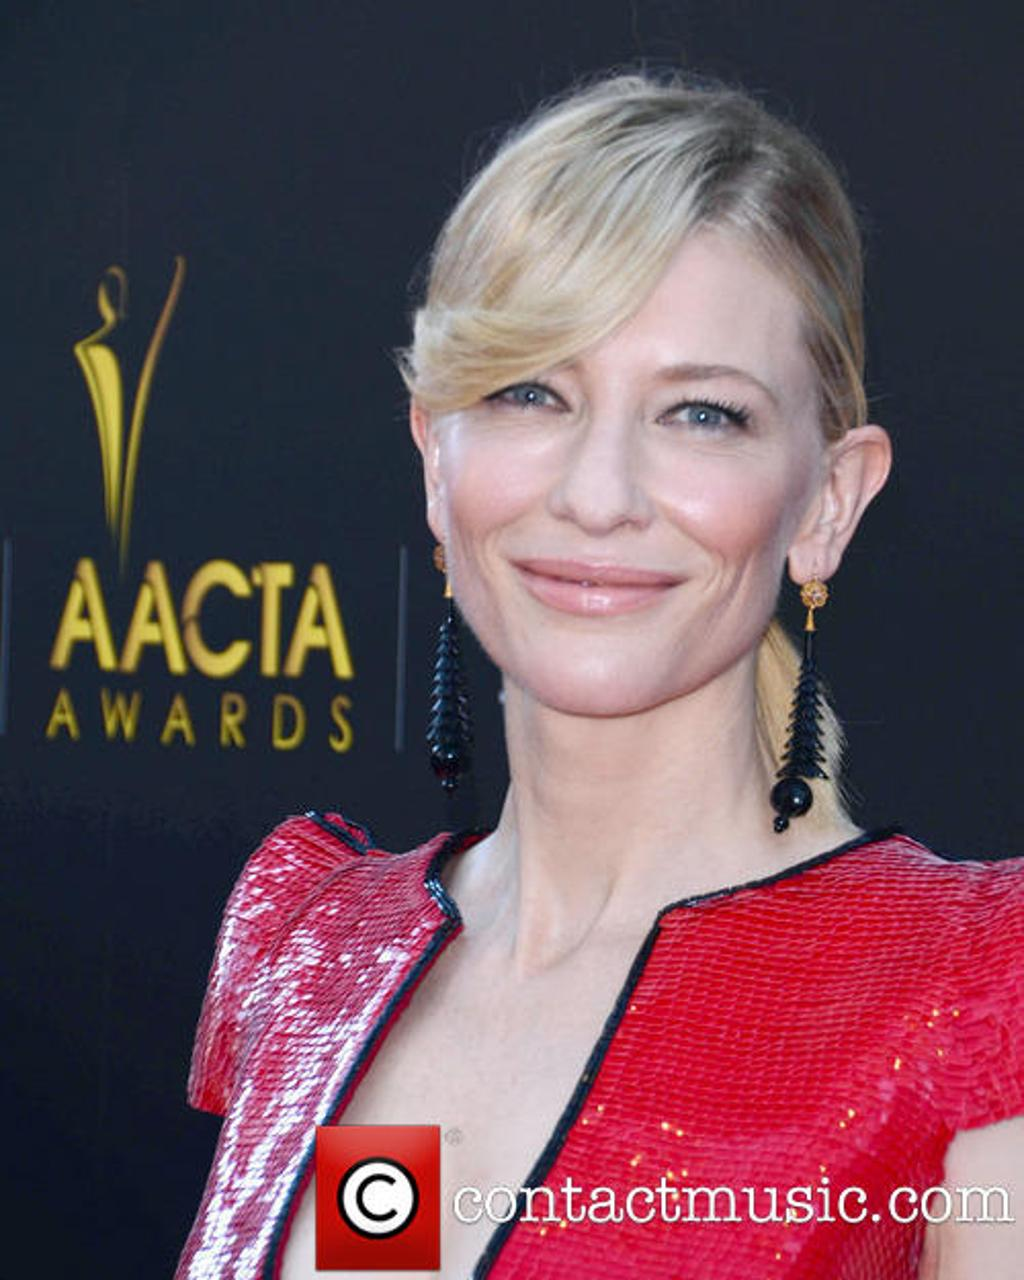face: (435, 190, 820, 709)
